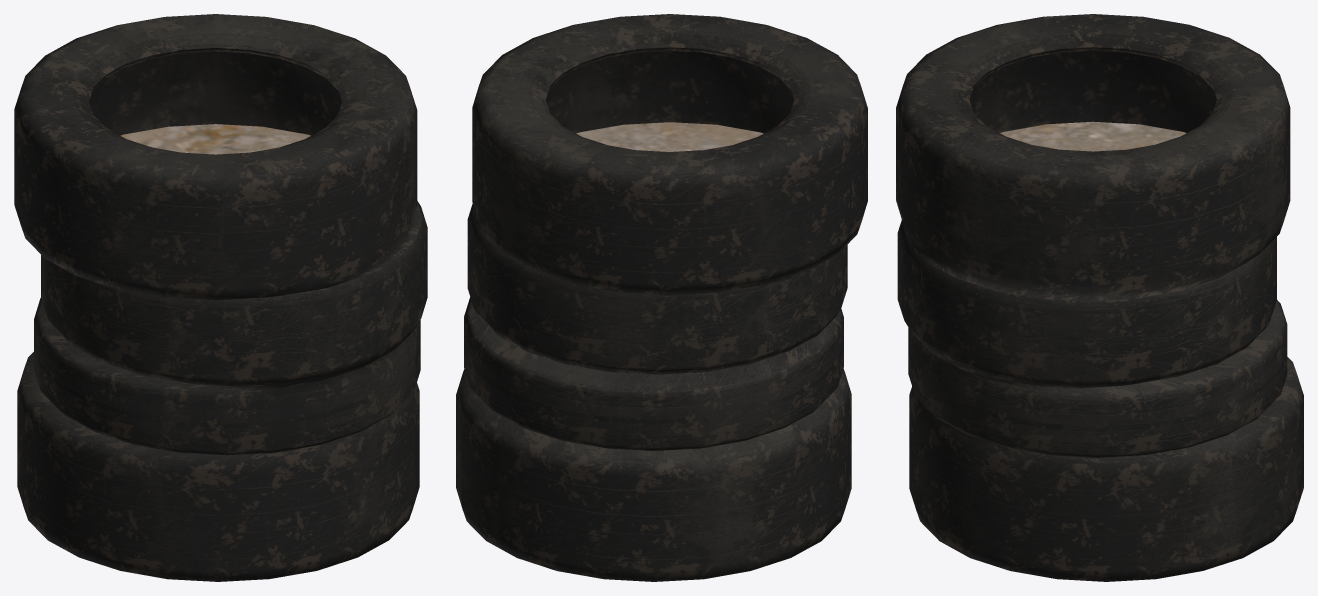
The model's file is TrTiresStackA3B.fbx.
3 renders of one model, left to right at view 1: azimuth 30°, elevation 25°; view 2: azimuth 150°, elevation 25°; view 3: azimuth 270°, elevation 25°, orthographic. The views are drawn at different scales.
Visible parts, largest first — view 1: TrTiresStackA3B_LOD0; view 2: TrTiresStackA3B_LOD0; view 3: TrTiresStackA3B_LOD0.
Part boxes in pixels (box(x1,y1,x2,y2)): TrTiresStackA3B_LOD0: box(14, 14, 427, 581); TrTiresStackA3B_LOD0: box(456, 14, 867, 581); TrTiresStackA3B_LOD0: box(896, 14, 1303, 581).
Size of what is drawn, in the model's own units: 68.09 by 76.02 by 68.51.
1 material, 1 textured.
